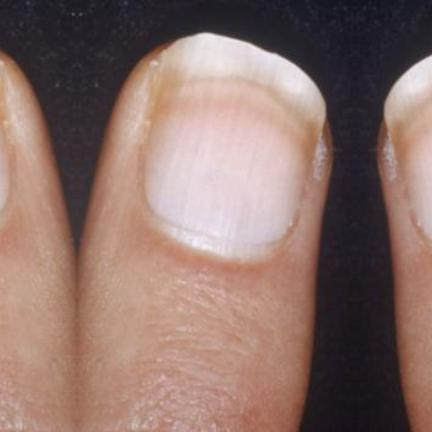Nail: (143, 32, 325, 265), (383, 55, 432, 260), (0, 94, 9, 233)
